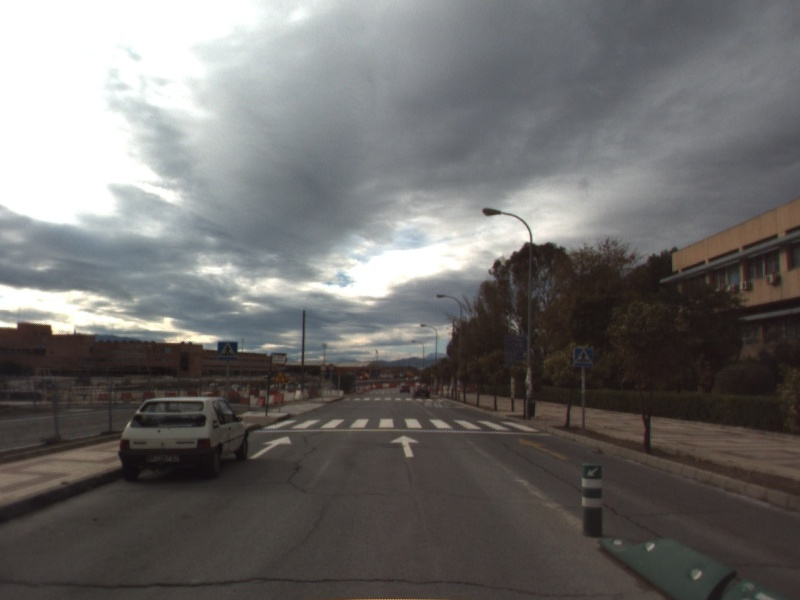STRAIGHT: (517, 436, 573, 462), (247, 434, 294, 461), (388, 433, 422, 459)
